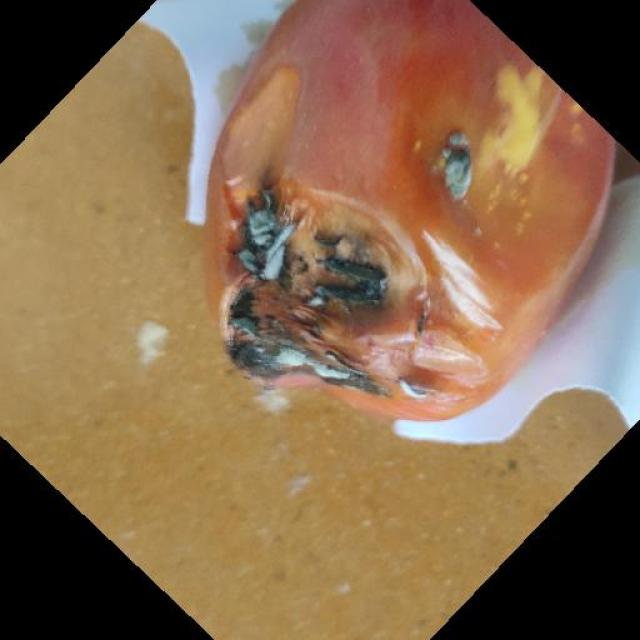Stale_tomato: (207, 0, 614, 420)
